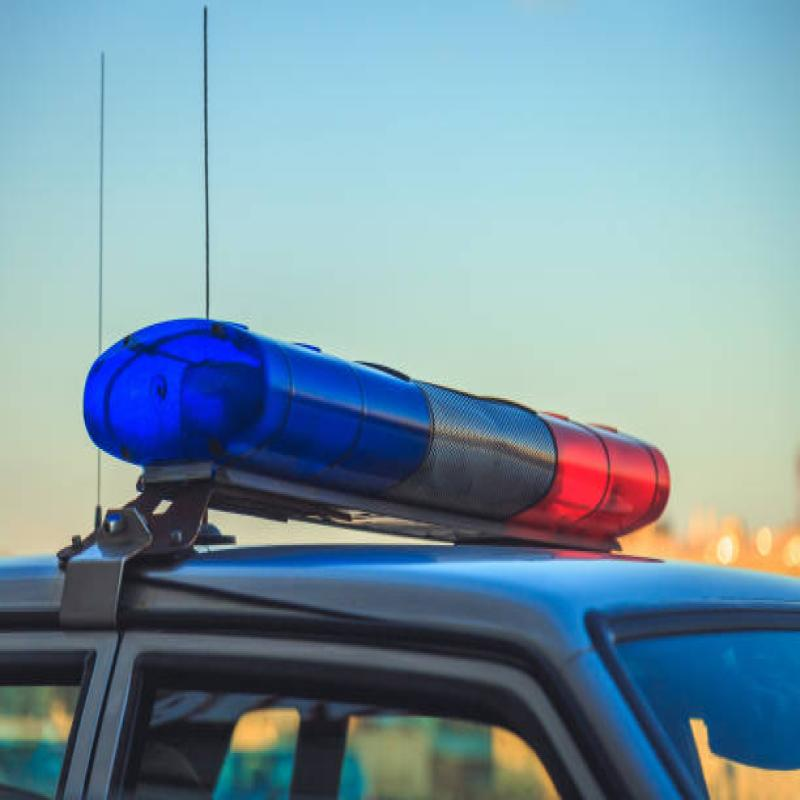AmbulanceSiren: (76, 296, 670, 570)
